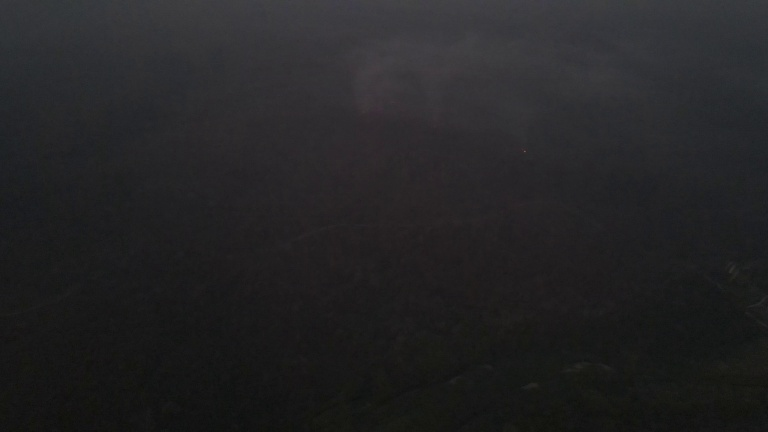fire: (520, 146, 530, 155)
smoke: (343, 13, 566, 134)
